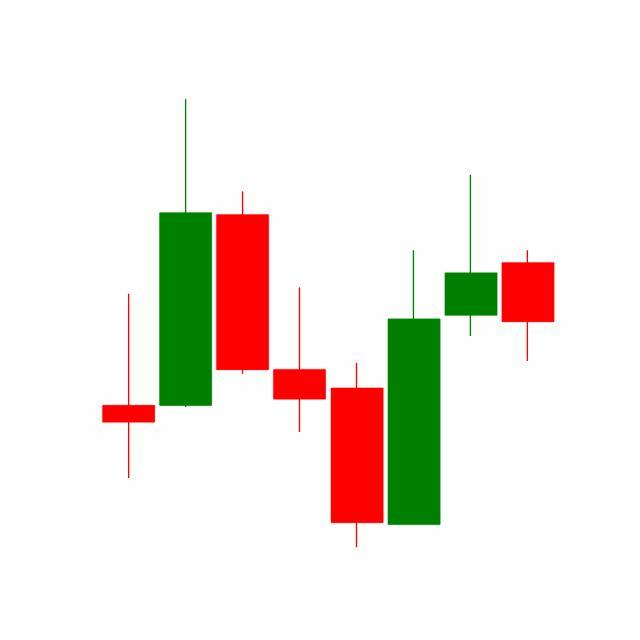Three Outside Up-Down: (328, 170, 500, 548)
